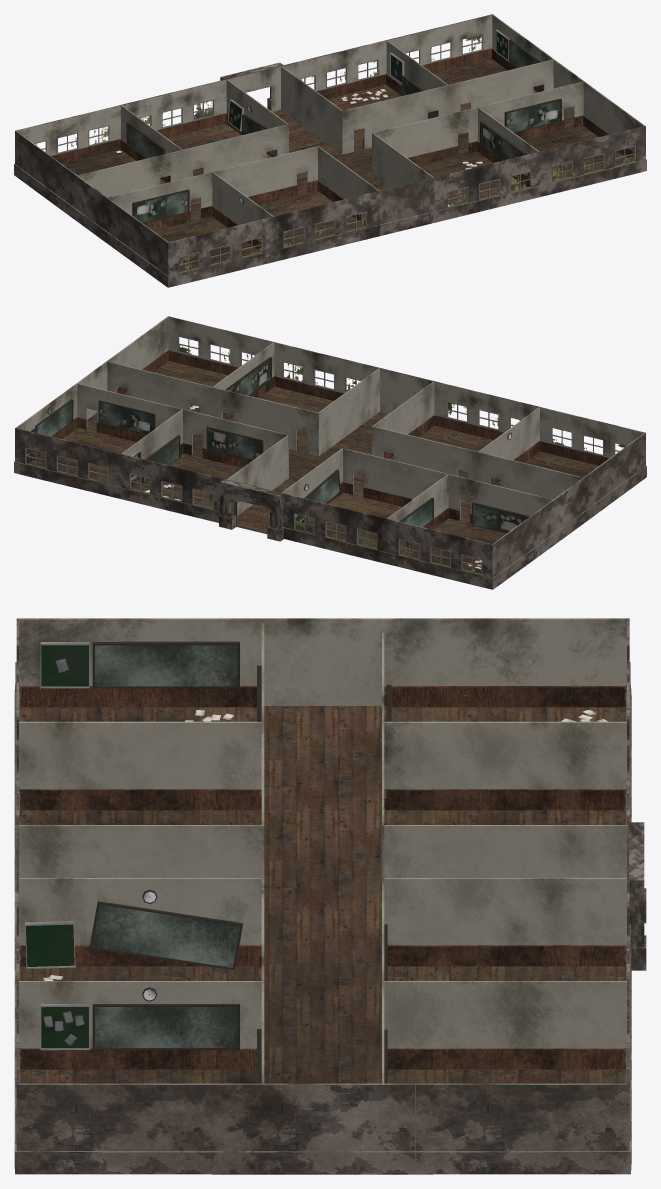
3 views of the same model, one above another, from view 1: azimuth 30°, elevation 25°; view 2: azimuth 150°, elevation 25°; view 3: azimuth 270°, elevation 25° (orthographic). The views are drawn at different scales.
Visible parts, largest first — view 1: 건물, 벽, 창, 알림판1, 칠판, 알림판; view 2: 건물, 벽, 창, 알림판1, 칠판; view 3: 건물, 벽, 칠판, 알림판, 창, 알림판1.
Boxes of the visible parts, x1=… form: 건물: x1=14, y1=14, x2=646, y2=287; 벽: x1=78, y1=40, x2=583, y2=251; 창: x1=34, y1=34, x2=635, y2=273; 알림판1: x1=132, y1=98, x2=561, y2=223; 칠판: x1=126, y1=39, x2=543, y2=158; 알림판: x1=227, y1=30, x2=509, y2=131; 건물: x1=14, y1=316, x2=646, y2=589; 벽: x1=77, y1=342, x2=582, y2=553; 창: x1=25, y1=336, x2=626, y2=575; 알림판1: x1=98, y1=357, x2=528, y2=533; 칠판: x1=35, y1=399, x2=433, y2=543; 건물: x1=14, y1=618, x2=646, y2=1174; 벽: x1=19, y1=619, x2=626, y2=1083; 칠판: x1=89, y1=641, x2=242, y2=1049; 알림판: x1=25, y1=642, x2=89, y2=1050; 창: x1=15, y1=662, x2=630, y2=1141; 알림판1: x1=257, y1=665, x2=391, y2=1083.
Bounding box in the file's own units: 4516 × 400 × 2577.
